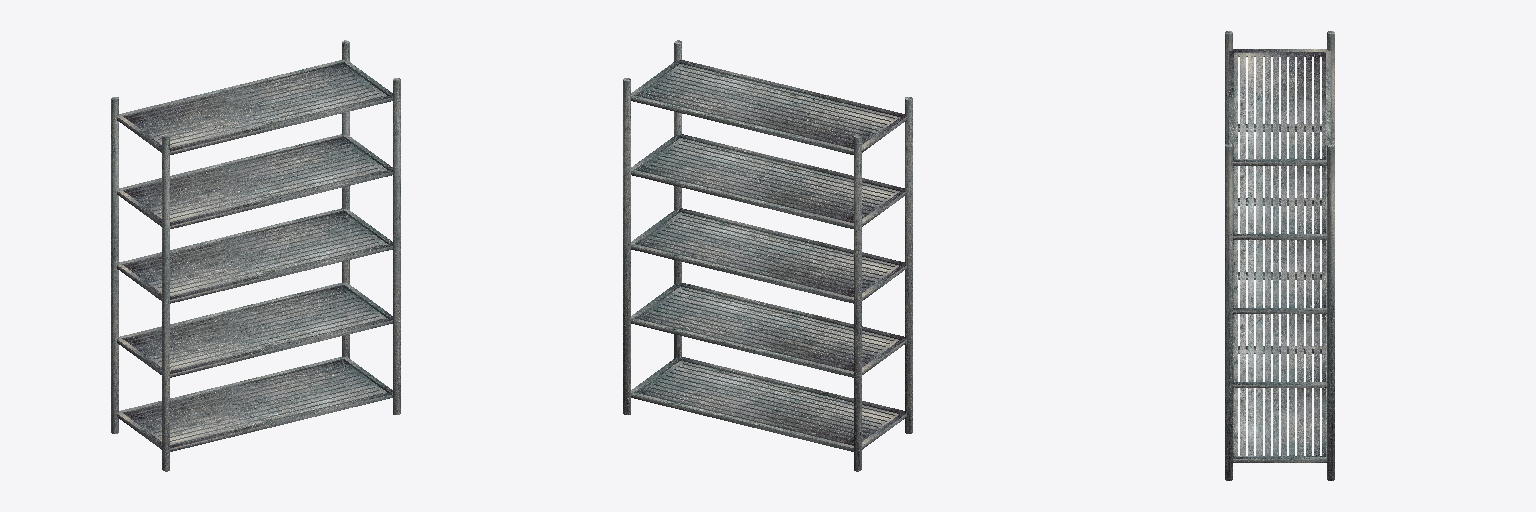
3 views of the same model, side by side, from view 1: azimuth 30°, elevation 25°; view 2: azimuth 150°, elevation 25°; view 3: azimuth 270°, elevation 25° (orthographic).
Parts seen in each view (by area): view 1: Shelf; view 2: Shelf; view 3: Shelf.
Part boxes in pixels (left/top/right/bottom): Shelf: left=111, top=40, right=400, bottom=471; Shelf: left=623, top=40, right=912, bottom=471; Shelf: left=1225, top=31, right=1334, bottom=480.
Size of the model in its own units: 1.34 by 1.8 by 0.5398.
Materials: 1 (1 with a texture image).